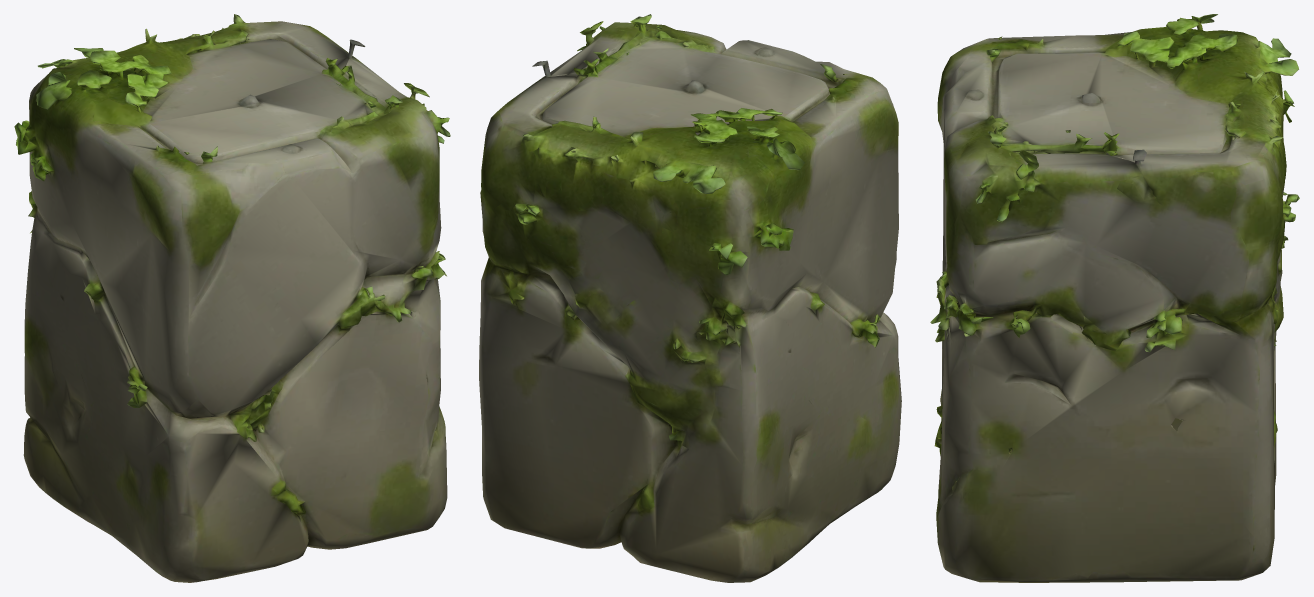
Rendered from pillar2.glb.
The picture shows the model from 3 angles, left to right: view 1: azimuth 30°, elevation 25°; view 2: azimuth 150°, elevation 25°; view 3: azimuth 270°, elevation 25°; orthographic projection. The views are drawn at different scales.
Parts seen in each view (by area): view 1: world; view 2: world; view 3: world.
Part boxes in pixels (x1=…): world: x1=14, y1=14, x2=450, y2=582; world: x1=479, y1=14, x2=901, y2=582; world: x1=930, y1=14, x2=1299, y2=582.
Bounding box in the file's own units: 0.759 × 0.9979 × 0.7573.
1 material, 1 textured.
